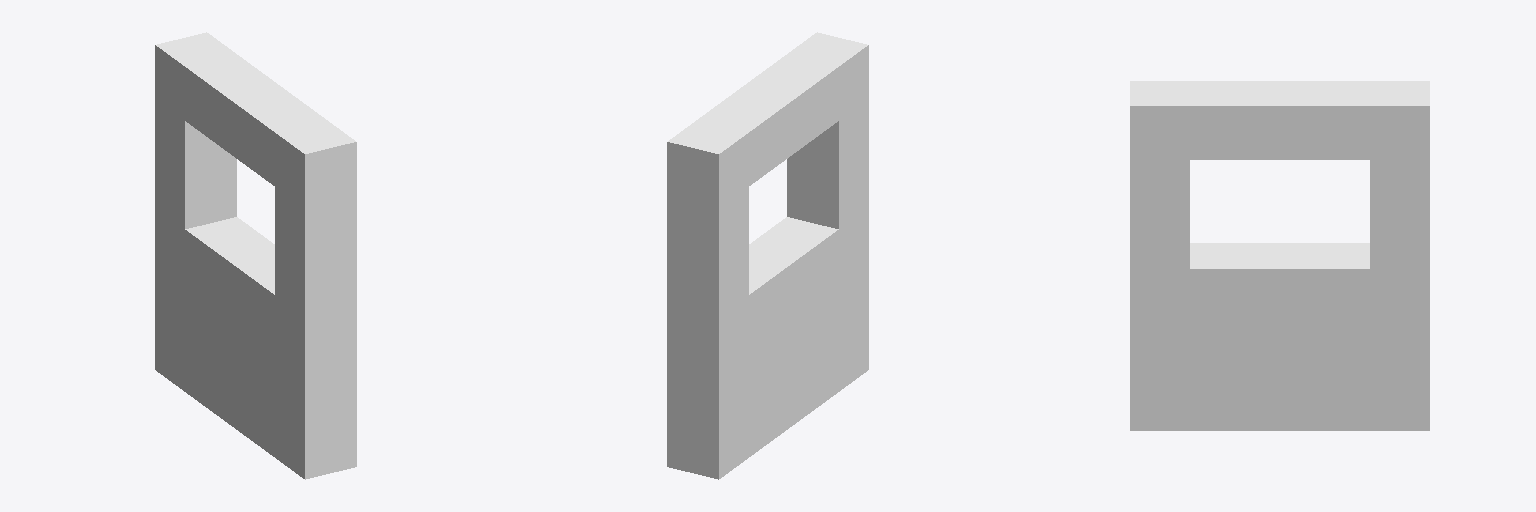
The model's file is ama01-12.obj.
3 renders of one model, left to right at view 1: azimuth 30°, elevation 25°; view 2: azimuth 150°, elevation 25°; view 3: azimuth 270°, elevation 25°, orthographic.
Visible parts, largest first — view 1: ama01-12; view 2: ama01-12; view 3: ama01-12.
Part boxes in pixels (bbox=[...]): ama01-12: bbox=[155, 32, 356, 479]; ama01-12: bbox=[667, 32, 868, 479]; ama01-12: bbox=[1130, 81, 1429, 430].
Size of the model in its own units: 1 by 6 by 5.